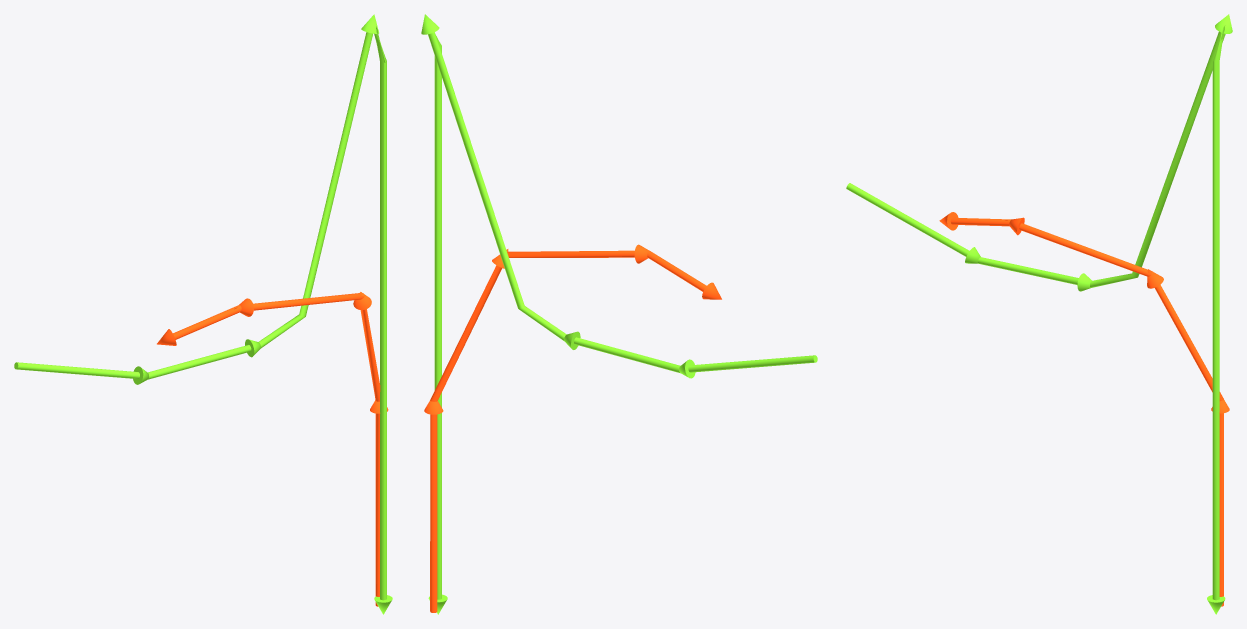
Rendered from m2p_blasthole_drill_flow.glb.
3 views of the same model, side by side, from view 1: azimuth 30°, elevation 25°; view 2: azimuth 150°, elevation 25°; view 3: azimuth 330°, elevation 25° (orthographic). The views are drawn at different scales.
Parts seen in each view (by area): view 1: air, cuttings; view 2: air, cuttings; view 3: air, cuttings.
Boxes of the visible parts, x1,y1,x2,y2 form: air: (14, 14, 392, 614); cuttings: (157, 292, 388, 606); air: (421, 14, 817, 614); cuttings: (424, 244, 721, 612); air: (846, 14, 1232, 614); cuttings: (939, 212, 1229, 606).
Bounding box in the file's own units: 6.04 × 9.1 × 1.38.
